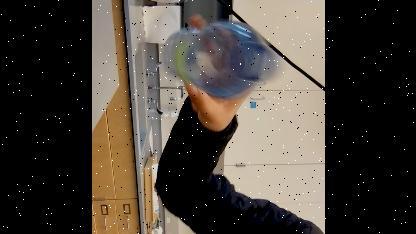Plastic Bottle: (146, 7, 274, 107)
